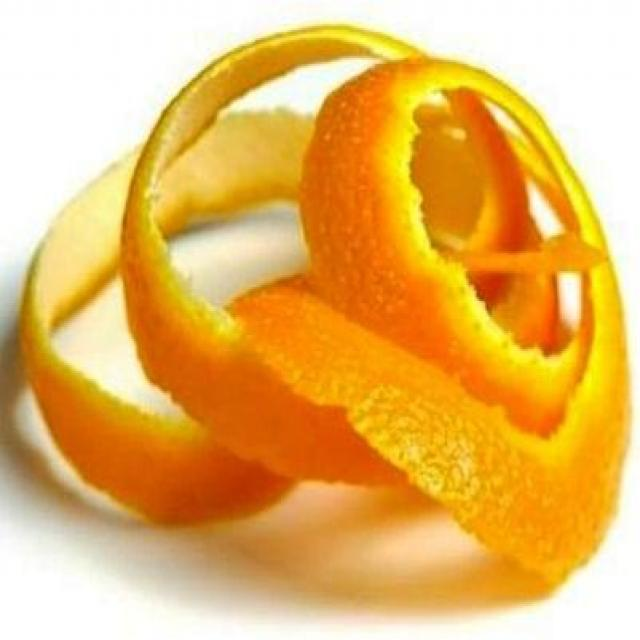Cascara de naranja: (26, 4, 640, 598)
